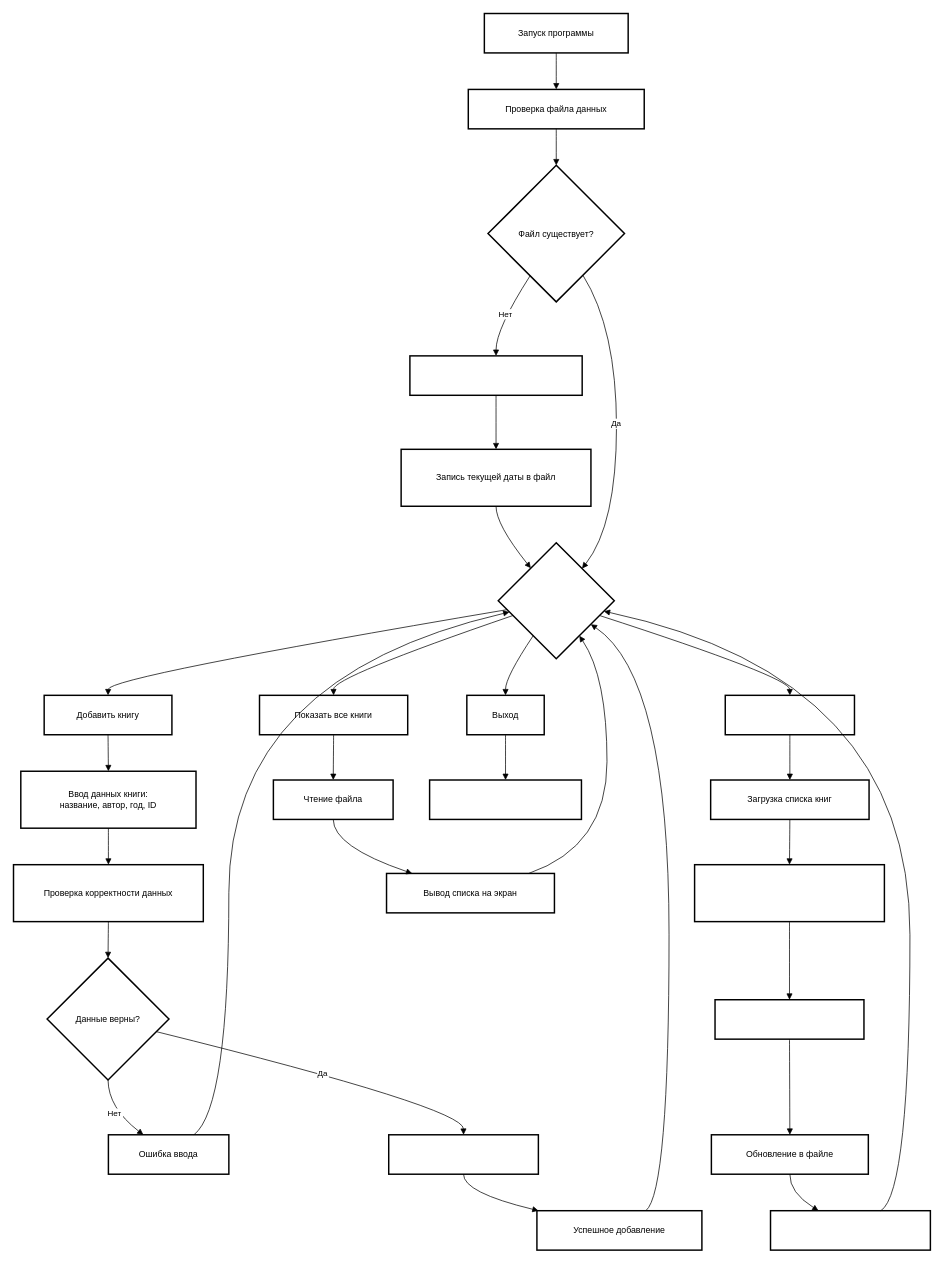
Some shapes in this 943 by 1263 pixel diagram are drawn without their labels. Each missing label, with the centre of its shape:
"Ввод новых данных" belongs at point (789, 1019).
"Выбор книги для изменения" belongs at point (789, 893).
"Главное меню" belongs at point (556, 600).
"Завершение работы" belongs at point (505, 799).
"Изменить книгу" belongs at point (789, 714).
"Создание нового файла" belongs at point (496, 375).
"Сохранение в файл" belongs at point (463, 1154).
"Успешное изменение" belongs at point (850, 1230).
